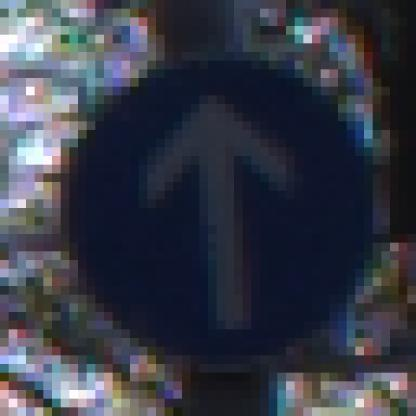straight: (48, 34, 396, 372)
